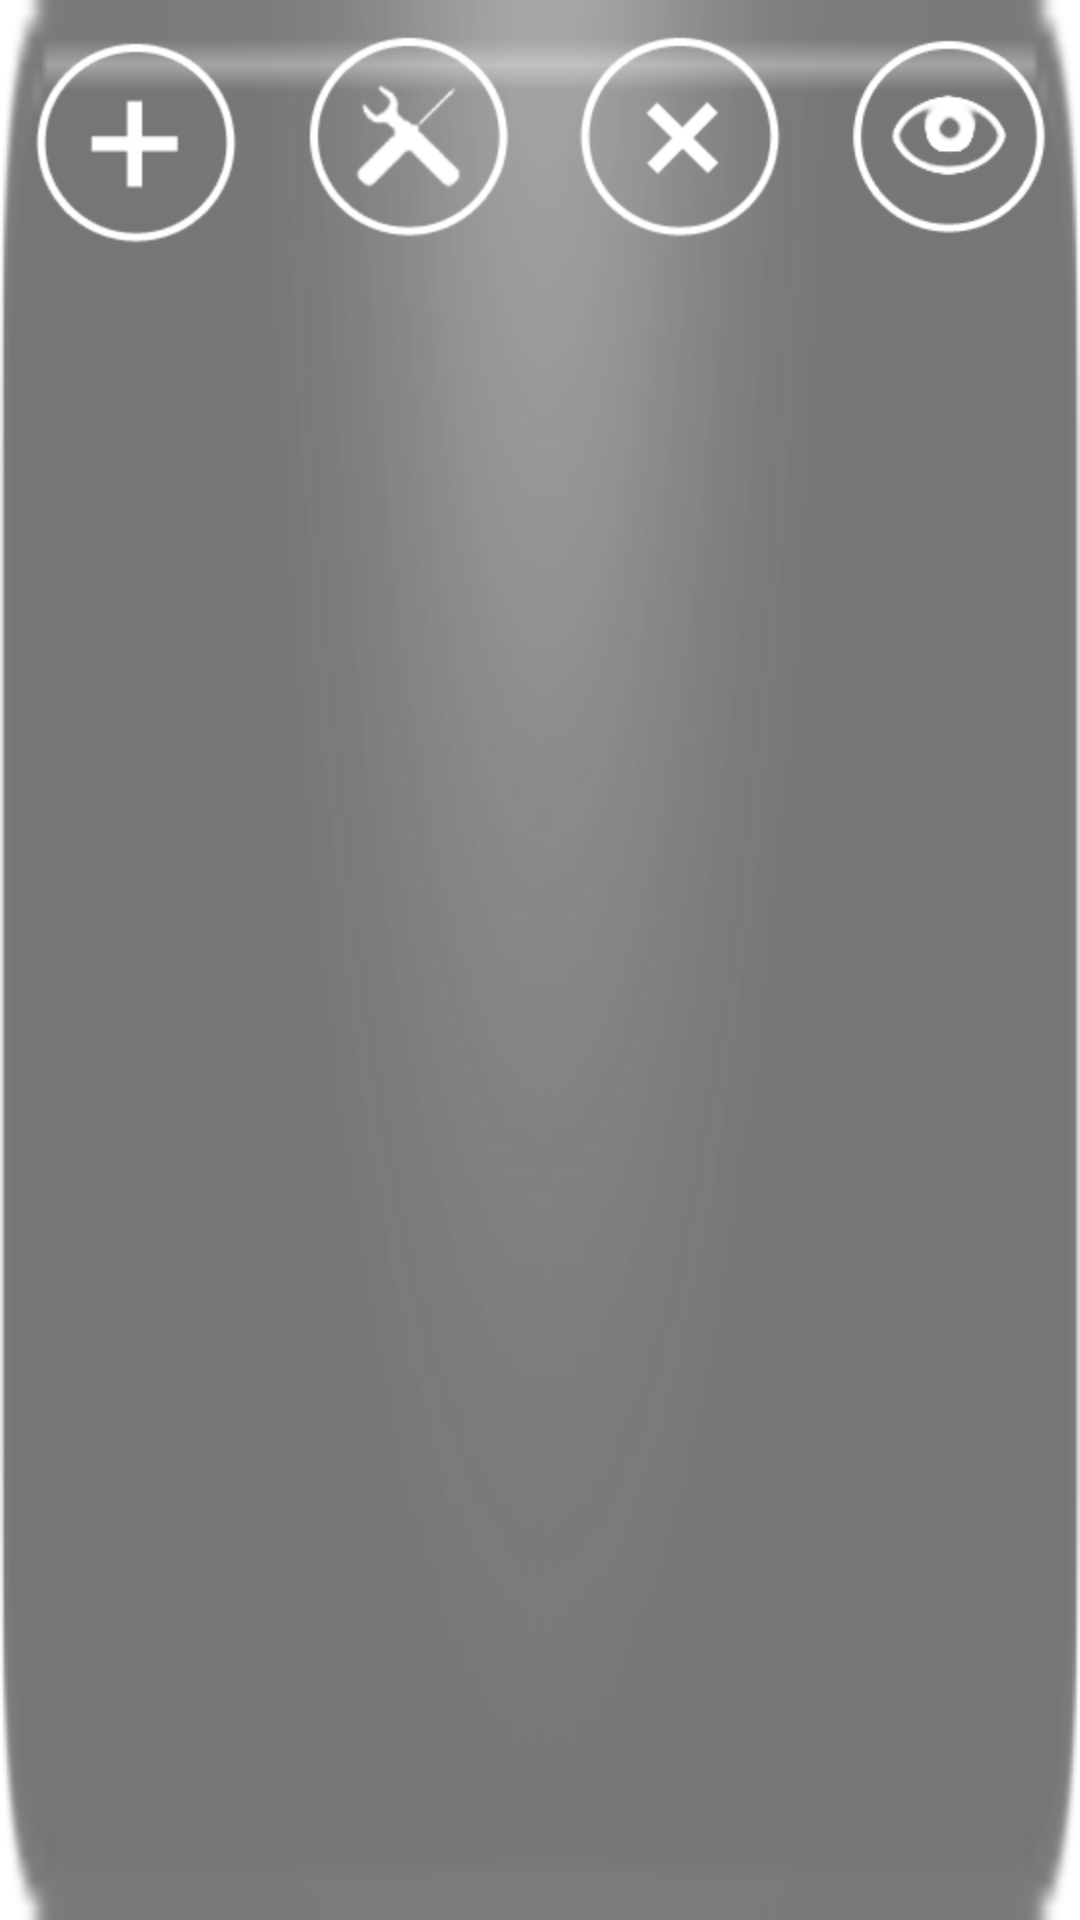

Point at icon controls on the screen. Image size 1080x1920, points as (x,y).
add: (136,142)
close: (680,136)
set: (408,136)
